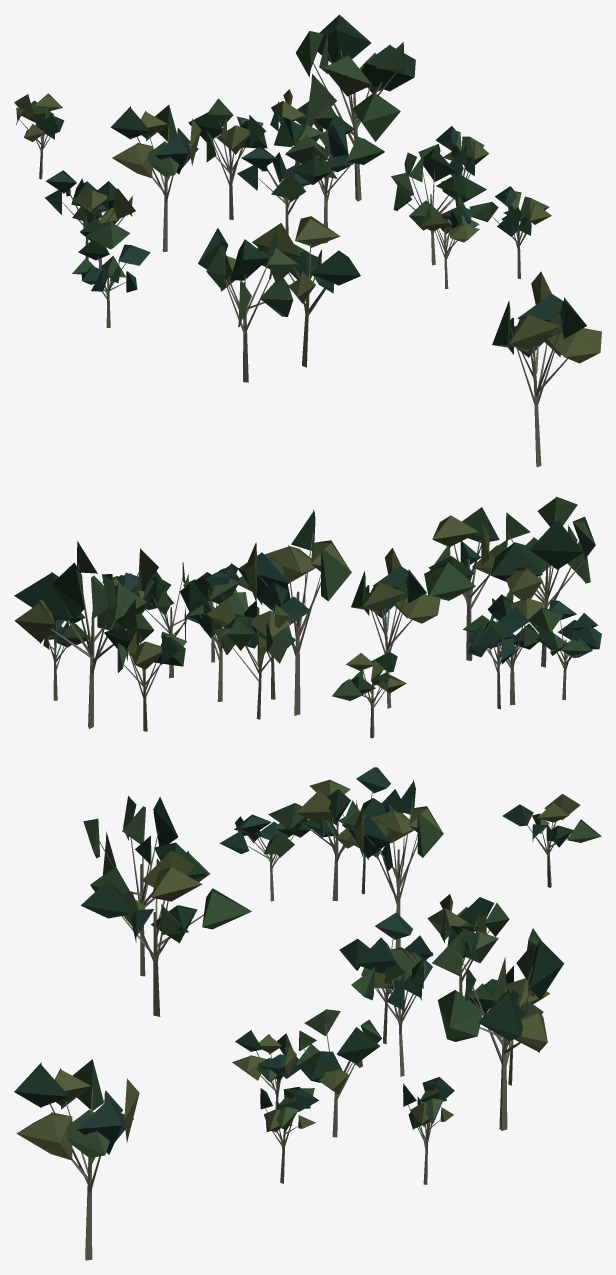
File: forest_23_21.dae
The picture shows the model from 3 angles, top to bottom: view 1: azimuth 30°, elevation 25°; view 2: azimuth 150°, elevation 25°; view 3: azimuth 270°, elevation 25°; orthographic projection. The views are drawn at different scales.
Visible parts, largest first — view 1: Node; view 2: Node; view 3: Node.
Part boxes in pixels (x1=…): Node: x1=14, y1=14, x2=601, y2=467; Node: x1=14, y1=496, x2=601, y2=738; Node: x1=14, y1=767, x2=601, y2=1260.
Size of the model in its own units: 9.97 by 9.65 by 6.21.
